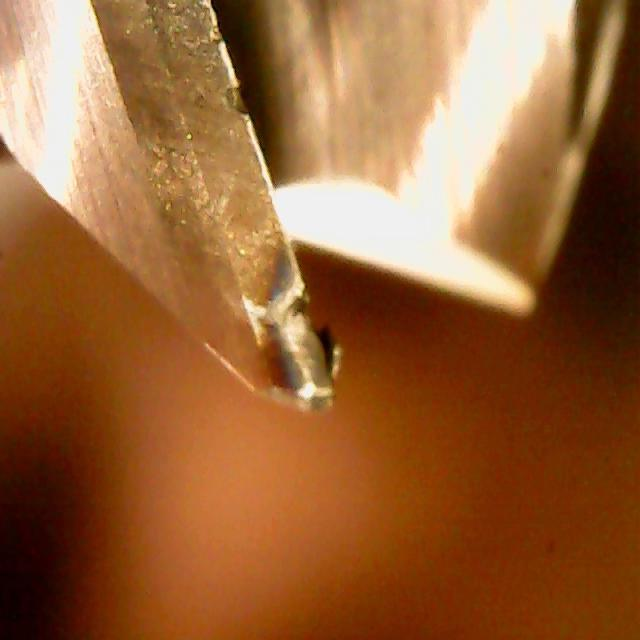Tool-wear-class-1: (157, 89, 359, 424)
